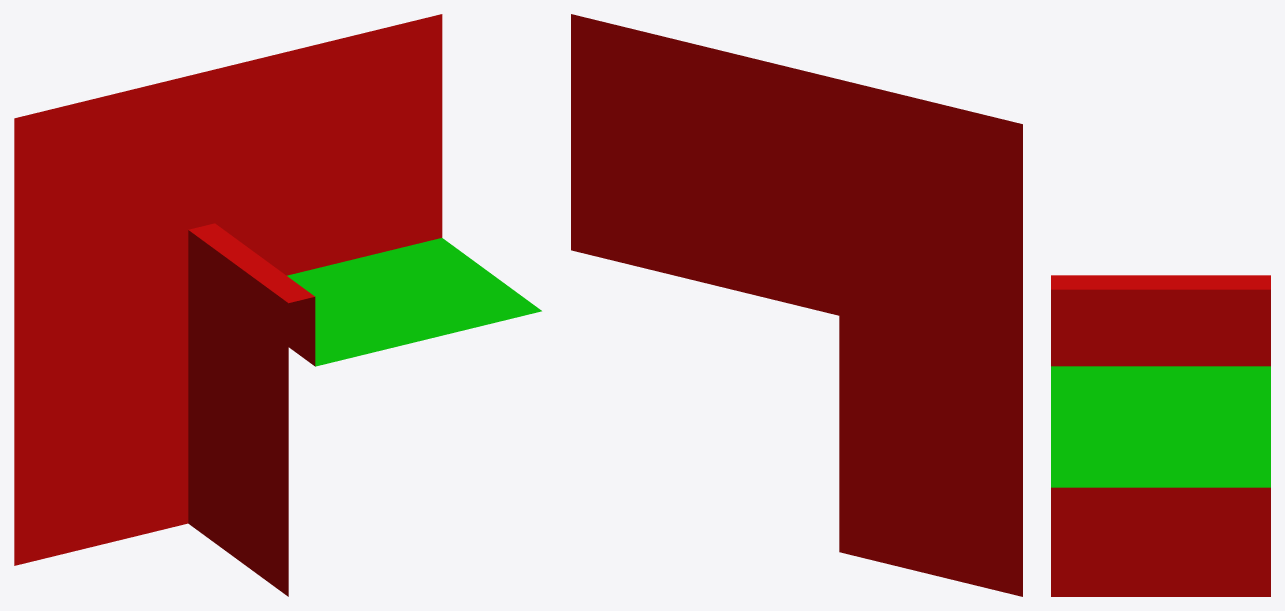
The picture shows the model from 3 angles, left to right: view 1: azimuth 30°, elevation 25°; view 2: azimuth 150°, elevation 25°; view 3: azimuth 270°, elevation 25°; orthographic projection. The views are drawn at different scales.
Visible parts, largest first — view 1: None_A_W_A_E_A_E_A_E_None; view 2: None_A_W_A_E_A_E_A_E_None; view 3: None_A_W_A_E_A_E_A_E_None.
Boxes of the visible parts, box(x1,y1,x2,y2) form: None_A_W_A_E_A_E_A_E_None: box(14, 14, 541, 596); None_A_W_A_E_A_E_A_E_None: box(571, 14, 1022, 596); None_A_W_A_E_A_E_A_E_None: box(1051, 275, 1270, 596).
Bounding box in the file's own units: 100 × 100 × 40.62.
